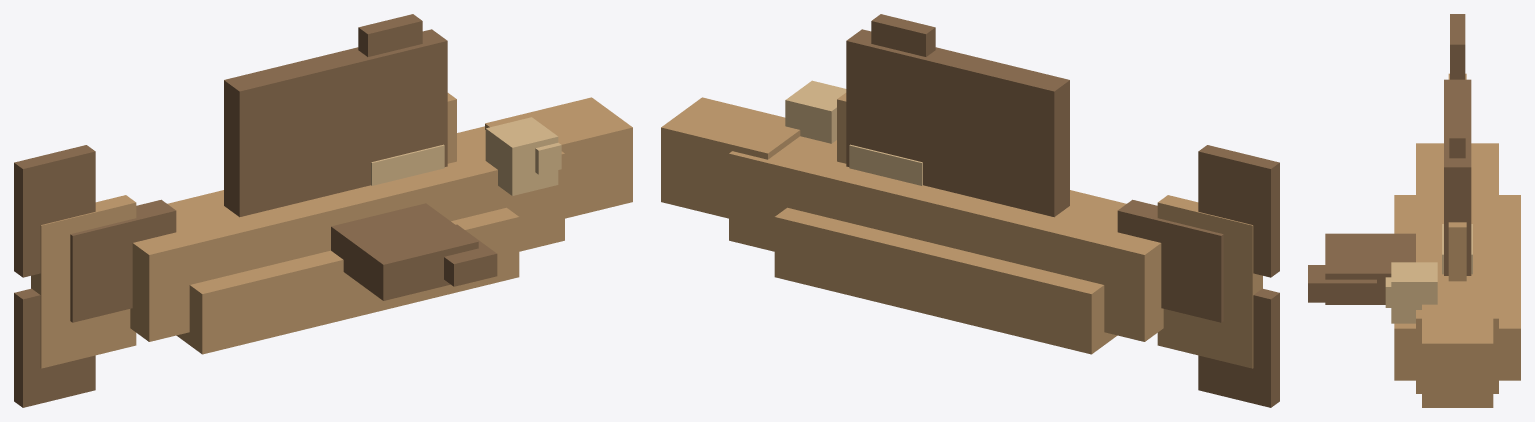
The model's file is fish_cedar_smelt.glb.
3 renders of one model, left to right at view 1: azimuth 30°, elevation 25°; view 2: azimuth 150°, elevation 25°; view 3: azimuth 270°, elevation 25°, orthographic. The views are drawn at different scales.
Parts seen in each view (by area): view 1: FishArt_body, FishArt_dorsal, FishArt_tail, FishArt_pectoral, FishArt_eye, FishArt_specialty; view 2: FishArt_body, FishArt_dorsal, FishArt_tail, FishArt_eye, FishArt_specialty; view 3: FishArt_body, FishArt_pectoral, FishArt_dorsal, FishArt_eye, FishArt_tail, FishArt_specialty.
Part boxes in pixels (left/top/right/bottom): FishArt_body: left=31, top=93, right=632, bottom=368; FishArt_dorsal: left=224, top=14, right=447, bottom=217; FishArt_tail: left=14, top=145, right=176, bottom=407; FishArt_pectoral: left=331, top=203, right=497, bottom=300; FishArt_eye: left=485, top=117, right=561, bottom=195; FishArt_specialty: left=371, top=144, right=444, bottom=185; FishArt_body: left=661, top=93, right=1262, bottom=368; FishArt_dorsal: left=846, top=14, right=1069, bottom=217; FishArt_tail: left=1117, top=145, right=1279, bottom=407; FishArt_eye: left=785, top=80, right=846, bottom=143; FishArt_specialty: left=849, top=144, right=922, bottom=185; FishArt_body: left=1394, top=73, right=1520, bottom=407; FishArt_pectoral: left=1308, top=233, right=1415, bottom=304; FishArt_dorsal: left=1444, top=79, right=1471, bottom=275; FishArt_eye: left=1385, top=262, right=1437, bottom=323; FishArt_tail: left=1450, top=14, right=1465, bottom=79; FishArt_specialty: left=1442, top=224, right=1472, bottom=274.
Bounding box in the file's own units: 0.3091 × 0.1442 × 0.111.
